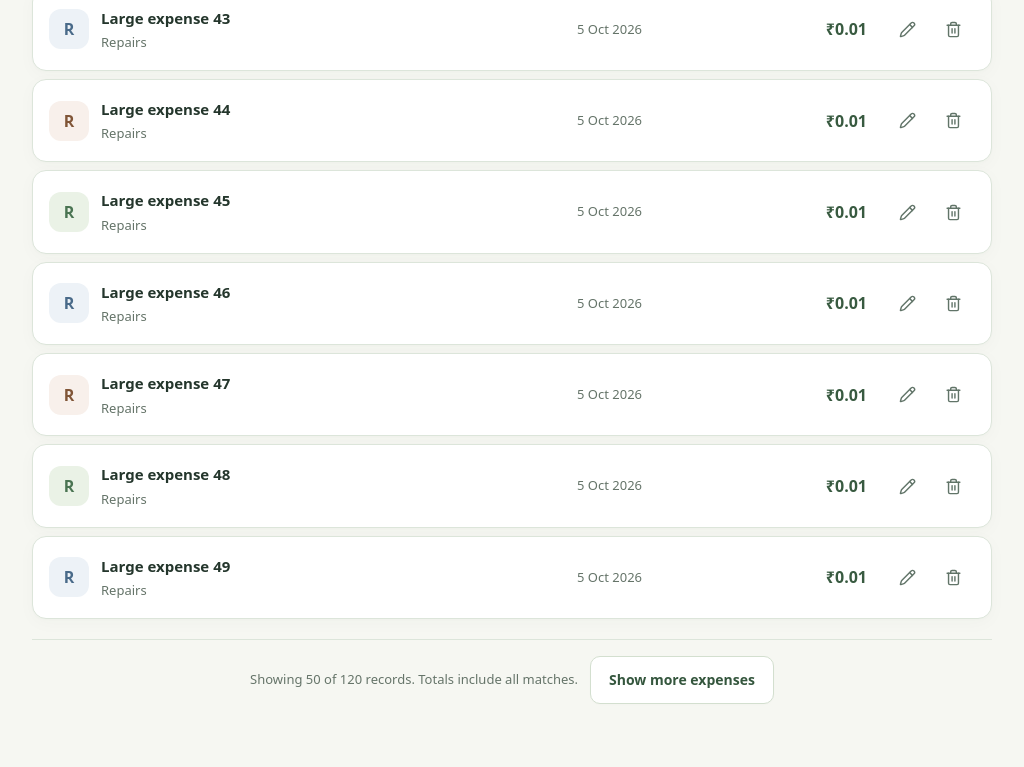
it: expense workspace › limits a large ledger while retaining complete totals and searching every record
The width and height of the screenshot is (1024, 767).
(page scrolled)
Click the button "Show more expenses".
click(682, 680)  # box [590,656,774,704]
(page scrolled)
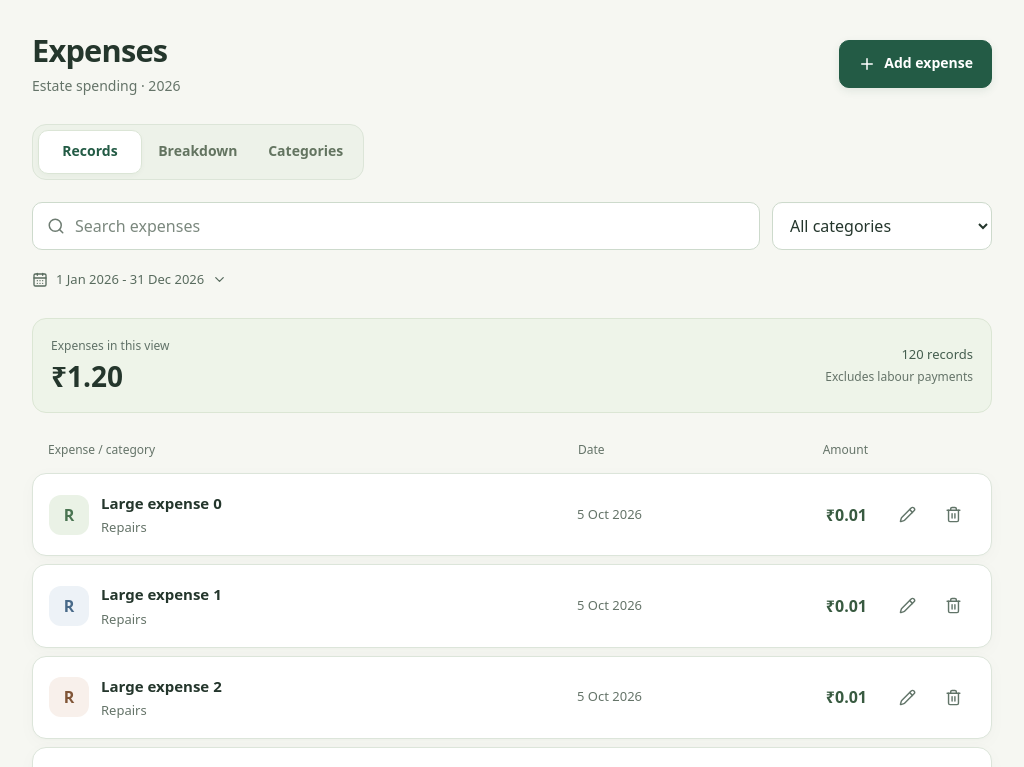
Check: the number of elements with class "expense-record" is 100
Type "Large expense 119" into the search field.
click(410, 226); type("Large expense 119")  # box [75,204,745,248]
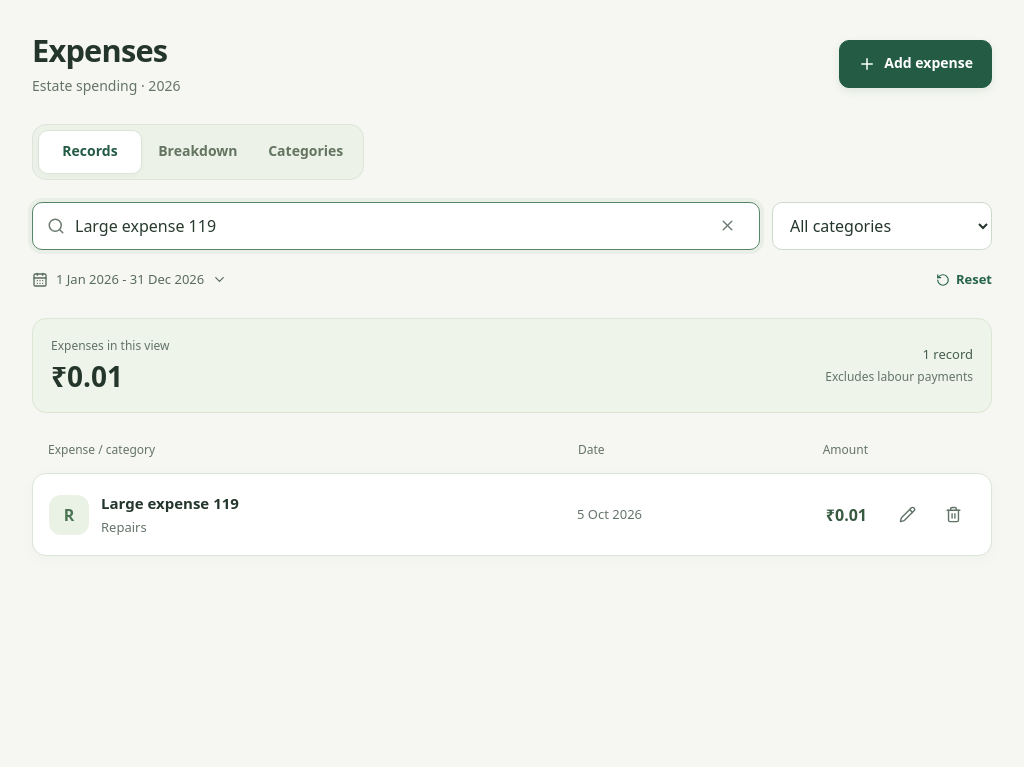
Check: the heading "Large expense 119" is shown, box [101,492,239,514]
Check: the number of elements with class "expense-record" is 1, box [32,473,992,556]
